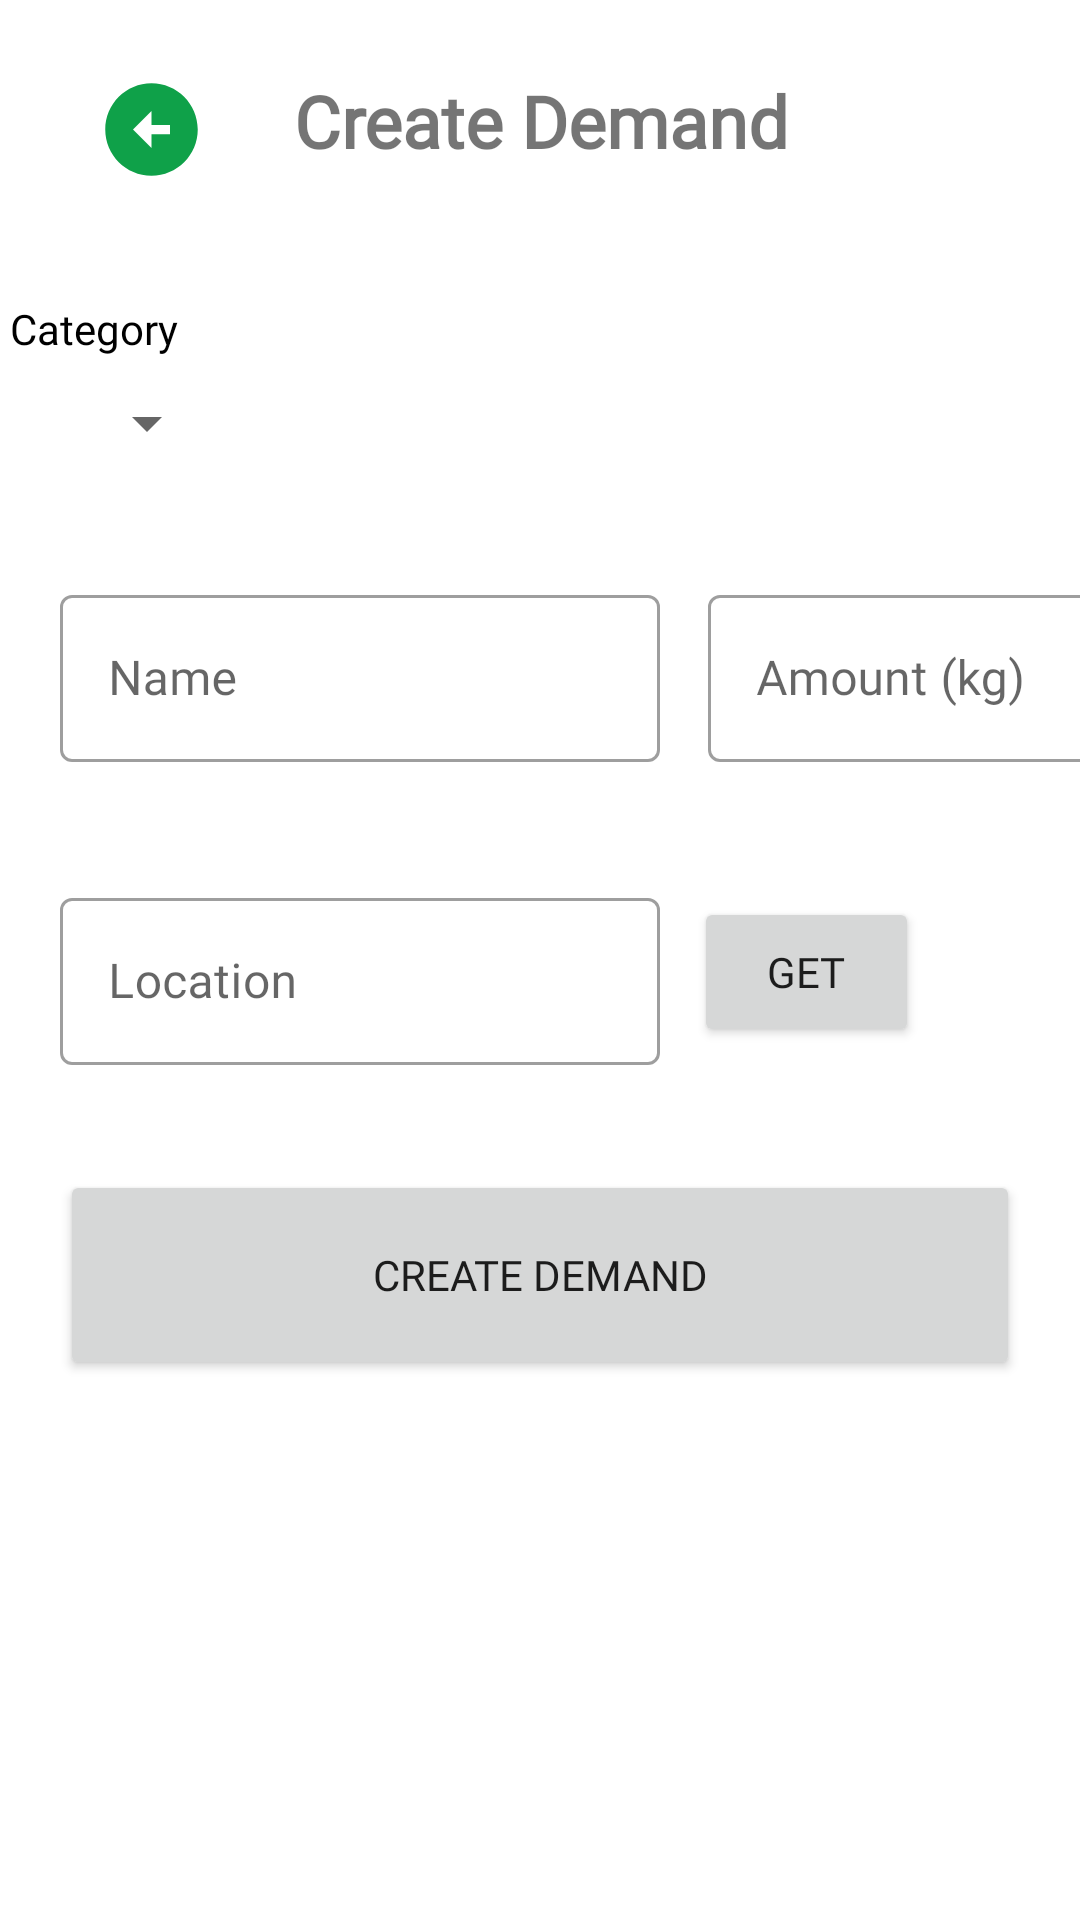

Icon bounding boxes for this 1080x1920 phone screenshot, format (x1=x1, y1=y1, x2=x2, y2=y2):
arrow back: (x1=105, y1=83, x2=198, y2=176)
